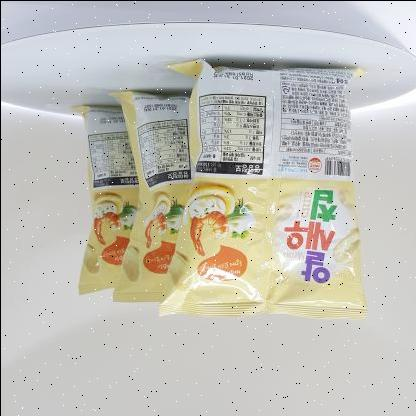Others: (61, 46, 372, 326)
